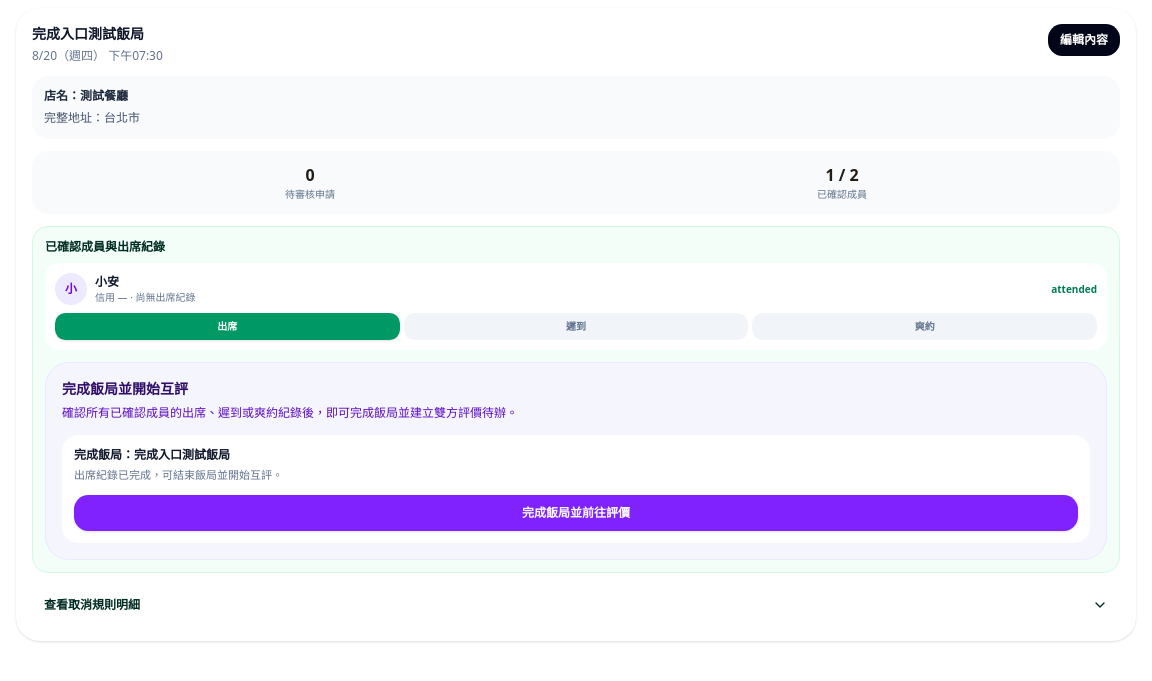
it: MyEventsManagement 進階飯局管理 › 主辦人完成所有出席紀錄後，可直接完成飯局並前往評價分頁
This screenshot has width=1152, height=681.
(page scrolled)
Click the button "完成飯局並前往評價". click: (576, 513)
box: [74,495,1078,531]
(page scrolled)
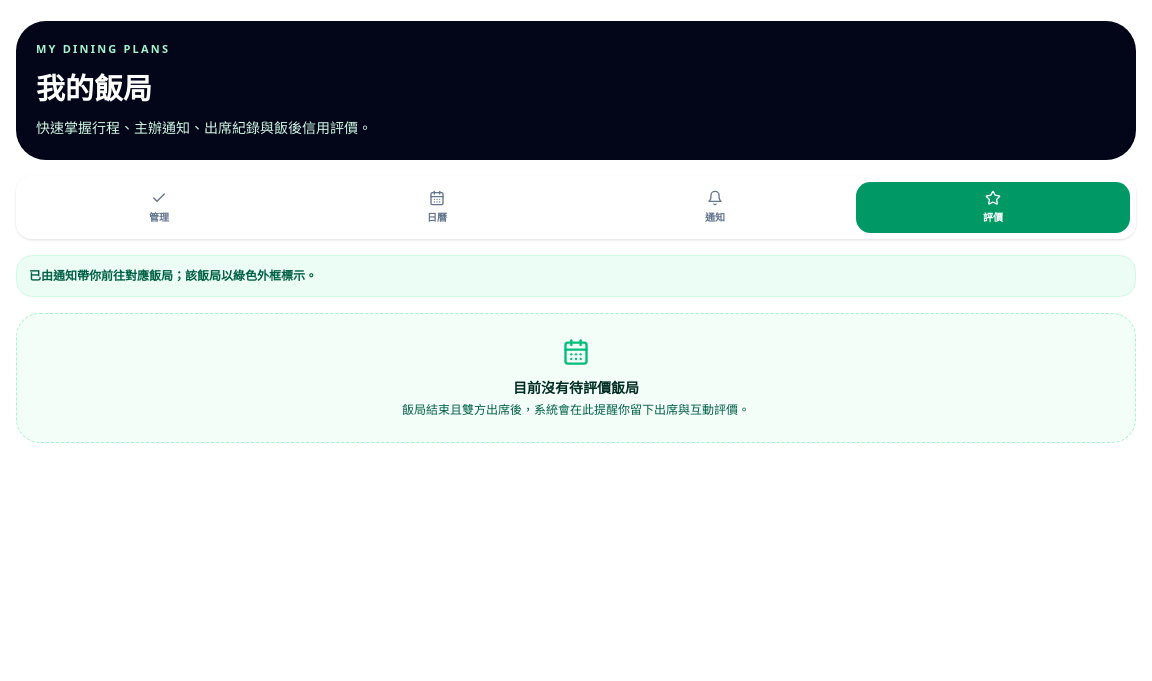
Expected: the text "目前沒有待評價飯局" is shown, [513,378,639,397]
